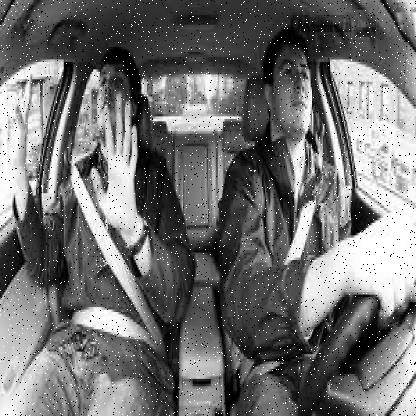seatbelt: (54, 44, 170, 294), (243, 42, 339, 281)
